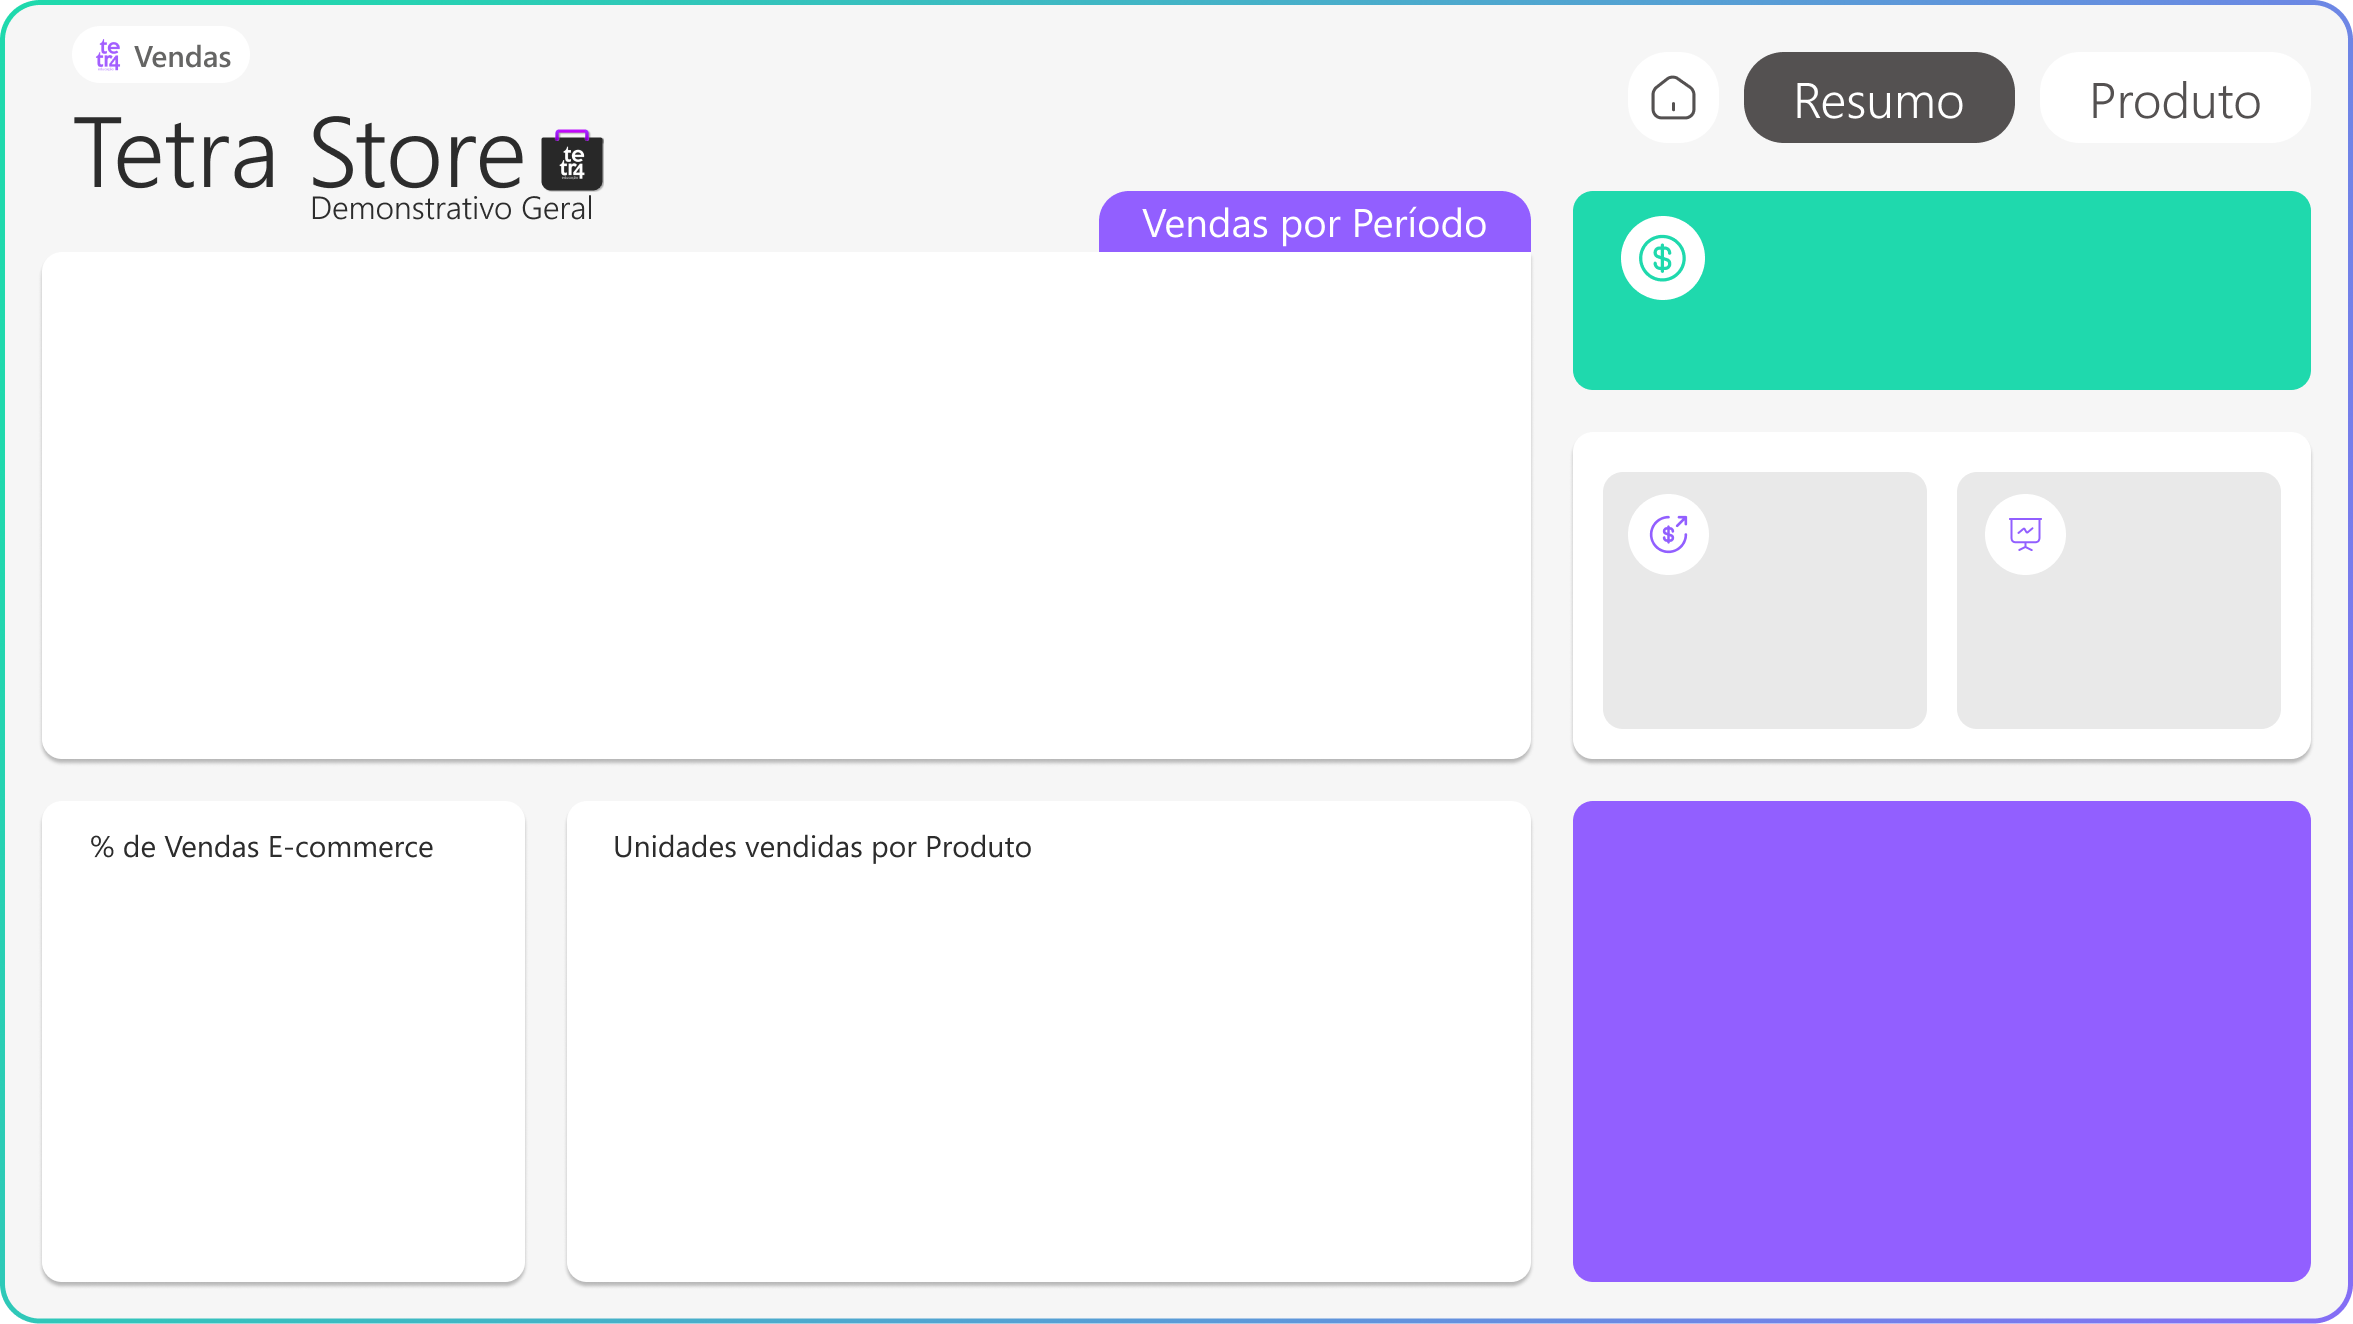

Layout of this report page (visuals, bound fields, positions):
{"tool":"powerbi","page":{"name":"Geral","canvas":[1280,720],"ordinal":0},"visuals":[{"type":"card","fields":{"Values":["Sum(VENDAS.VENDA TOTAL)"]},"box":[936.6,110.6,318.7,92.4],"z":0},{"type":"card","fields":{"Values":["Sum(VENDAS.VENDAS UNIDADES)"]},"box":[887.2,303.1,161.3,82],"z":1000},{"type":"card","fields":{"Values":["Sum(VENDAS.VENDA E-COMMERCE)"]},"box":[1048.5,304.4,206.8,80.7],"z":2000},{"type":"areaChart","fields":{"Y":["Sum(VENDAS.VENDA TOTAL)"],"Category":["VENDAS.Data.Variation.Hierarquia de datas.Ano","VENDAS.Data.Variation.Hierarquia de datas.Trimestre","VENDAS.Data.Variation.Hierarquia de datas.Mês","VENDAS.Data.Variation.Hierarquia de datas.Dia"]},"box":[29.9,135.3,806.5,281],"z":3000},{"type":"barChart","fields":{"Y":["Sum(VENDAS.VENDAS UNIDADES)"],"Category":["VENDAS.PRODUTO"]},"box":[314.8,476.1,521.6,213.3],"z":4000},{"type":"pivotTable","fields":{"Rows":["VENDAS.VENDEDOR"],"Values":["Sum(VENDAS.VENDA TOTAL)","Sum(VENDAS.VENDAS UNIDADES)"]},"box":[863.7,441,391.5,248.5],"z":5000},{"type":"donutChart","fields":{"Y":["VENDAS (2).LOJA FISICA","Sum(VENDAS.VENDA E-COMMERCE)"]},"box":[7.8,476.1,307,227.6],"z":6000},{"type":"slicer","fields":{"Values":["VENDAS.Data.Variation.Hierarquia de datas.Ano"]},"box":[558,19.5,278.4,74.1],"z":7000},{"type":"card","fields":{"Values":["VENDAS (2).% Vendas Ecomerce"]},"box":[80.7,548.9,161.3,82],"z":8000},{"type":"textbox","box":[450.1,28.6,126.2,37.7],"z":8001},{"type":"actionButton","box":[1135,36.2,100,40],"z":8006}]}

Visuals, with their boxes in screenshot pixels (x1, y1, x2, y2), scaled from the page's 1280x720 canvas onto the 2353x1324 screenshot:
card - Sum(VENDAS.VENDA TOTAL): 1722/203/2308/373
card - Sum(VENDAS.VENDAS UNIDADES): 1631/557/1927/708
card - Sum(VENDAS.VENDA E-COMMERCE): 1927/560/2308/708
areaChart - Sum(VENDAS.VENDA TOTAL) x VENDAS.Data.Variation.Hierarquia de datas.Ano: 55/249/1538/766
barChart - Sum(VENDAS.VENDAS UNIDADES) x VENDAS.PRODUTO: 579/875/1538/1268
pivotTable - VENDAS.VENDEDOR x Sum(VENDAS.VENDA TOTAL): 1588/811/2307/1268
donutChart - VENDAS (2).LOJA FISICA x Sum(VENDAS.VENDA E-COMMERCE): 14/875/579/1294
slicer - VENDAS.Data.Variation.Hierarquia de datas.Ano: 1026/36/1538/172
card - VENDAS (2).% Vendas Ecomerce: 148/1009/445/1160
textbox: 827/53/1059/122
actionButton: 2086/67/2270/140
